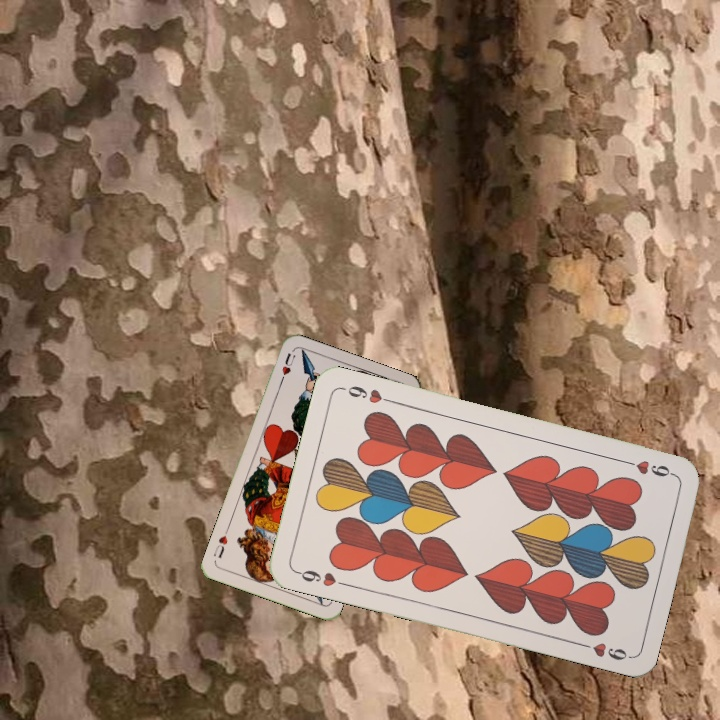H9: (619, 456, 678, 480), (292, 566, 350, 590)
HU: (276, 349, 298, 387)
